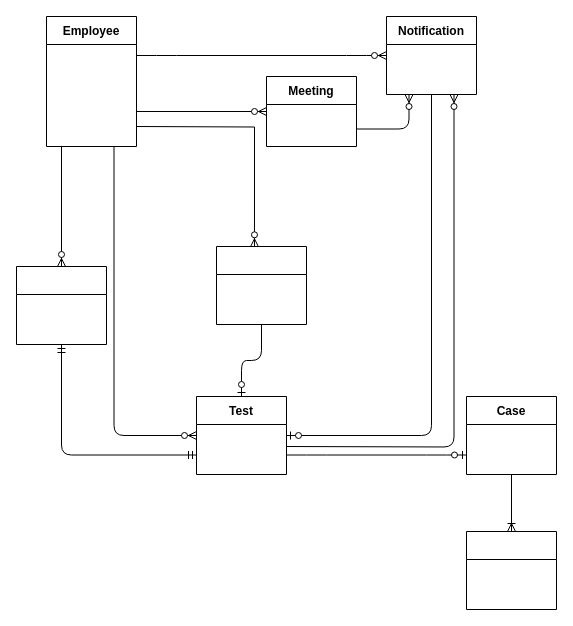
This 573x626 diagram has some shape labels left out. Here are the shapes that lost their labels. From the top down, the box of each, then its label:
(16, 266, 106, 344): Symptom
(216, 246, 306, 324): Scan
(466, 530, 556, 610): HealthStatus
